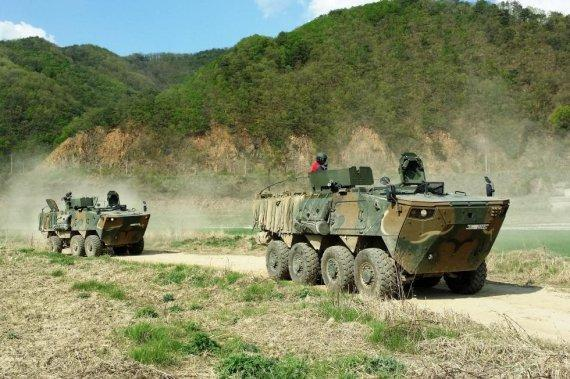MIL_IFV: (251, 148, 512, 301), (38, 190, 151, 255)
